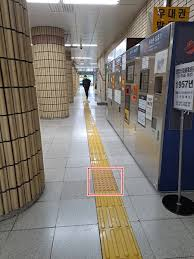guide_blocks: (87, 173, 140, 259), (85, 107, 109, 174)
